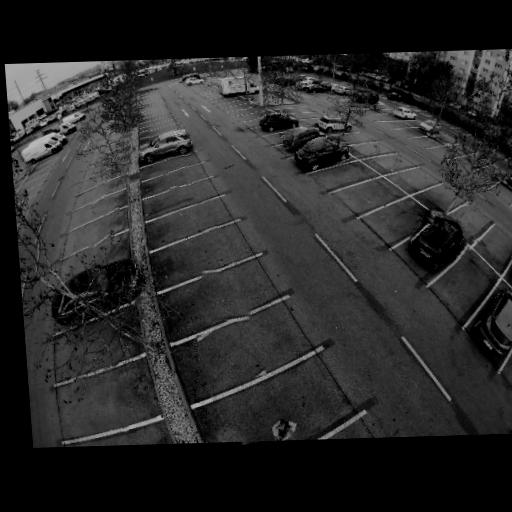busy: (44, 261, 147, 324), (408, 213, 472, 269), (475, 286, 512, 355), (294, 137, 351, 169), (138, 130, 194, 162), (280, 124, 328, 153), (257, 112, 301, 134), (317, 113, 353, 134), (182, 73, 208, 87), (391, 107, 417, 120), (418, 120, 441, 133), (510, 242, 512, 297)
free: (233, 390, 320, 443), (198, 324, 265, 386), (194, 269, 257, 324), (74, 376, 133, 433), (75, 324, 122, 366), (181, 239, 236, 267), (453, 203, 486, 242), (171, 210, 218, 233), (447, 269, 486, 294), (77, 245, 110, 273), (426, 183, 451, 216), (83, 222, 112, 248), (353, 186, 390, 206), (382, 211, 418, 231), (170, 187, 206, 205), (485, 235, 512, 254), (92, 198, 120, 216), (396, 173, 425, 190), (333, 166, 363, 182), (164, 170, 193, 186), (159, 158, 188, 174), (375, 158, 401, 172), (245, 105, 261, 125), (96, 182, 114, 199), (357, 142, 373, 157)
